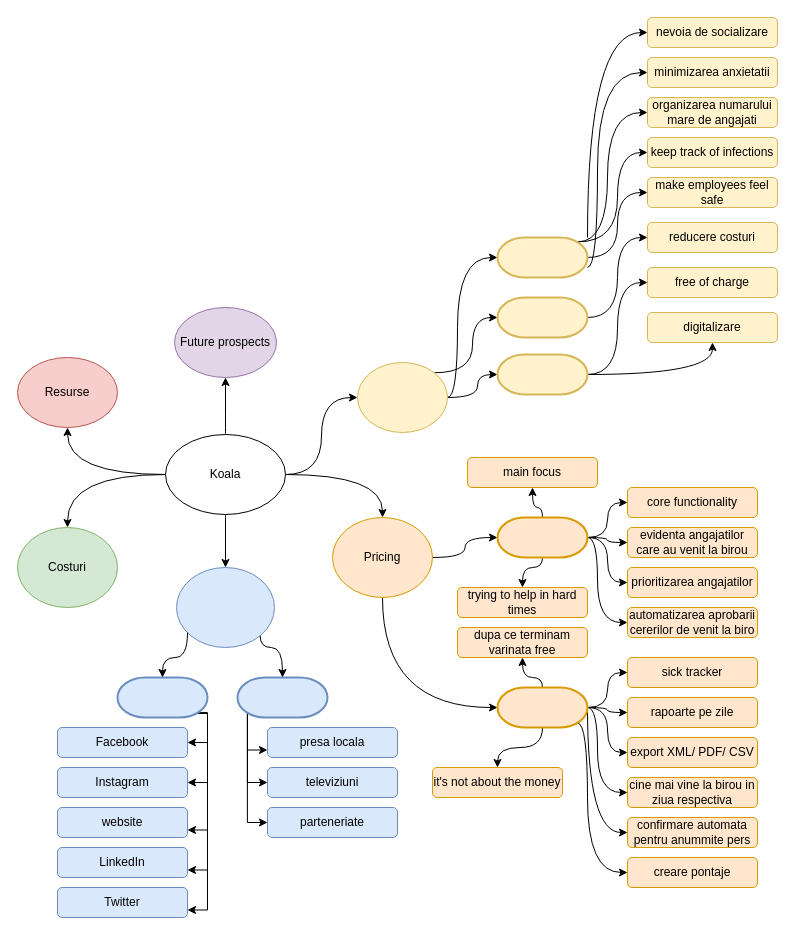
Some shapes in this 795 by 936 pixel diagram are drawn without their labels. Each missing label, with the centre of its shape:
Clienti: point (402, 397)
Corporatii: point (542, 257)
free: point (542, 537)
free press: point (282, 697)
Institutii ale statului: point (542, 374)
premium: point (542, 707)
Promovare: point (225, 607)
Small businesses: point (542, 317)
social media: point (162, 697)
